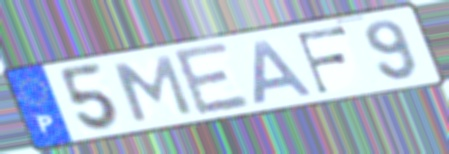5: (55, 61, 122, 136)
9: (362, 19, 420, 82)
A: (251, 37, 318, 106)
E: (169, 40, 255, 120)
F: (294, 24, 351, 97)
M: (110, 53, 197, 125)
